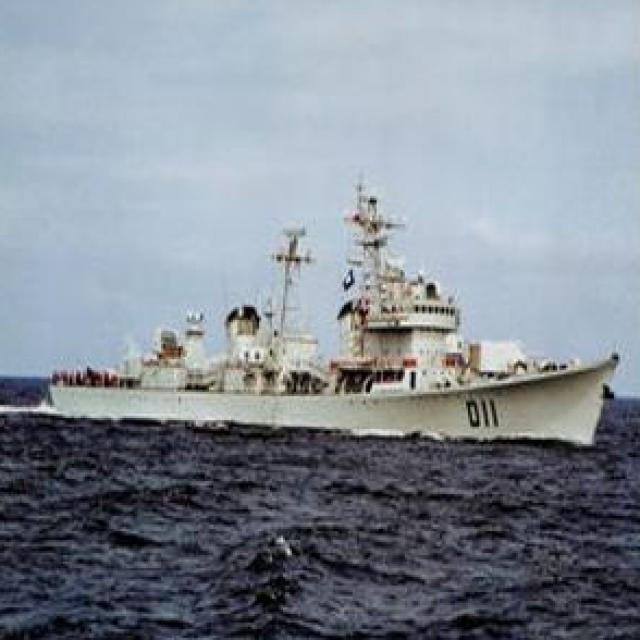navalvessels: (47, 188, 624, 438)
